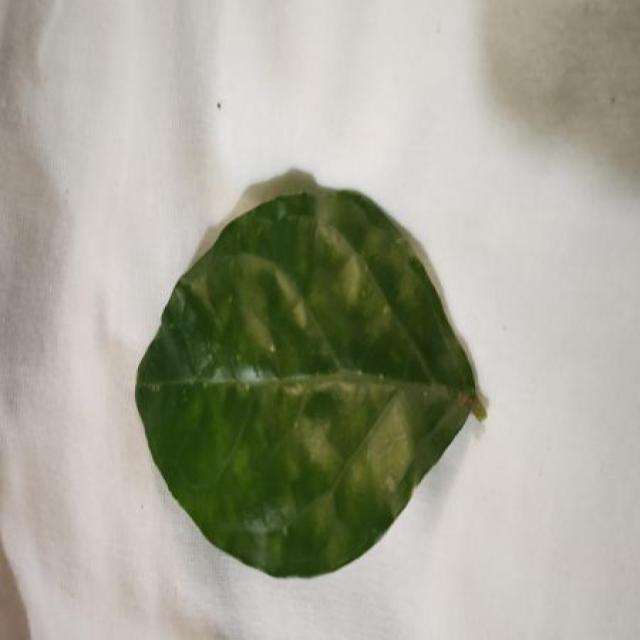Jasmine: (137, 201, 485, 577)
alternaria blight: (207, 255, 463, 521)
